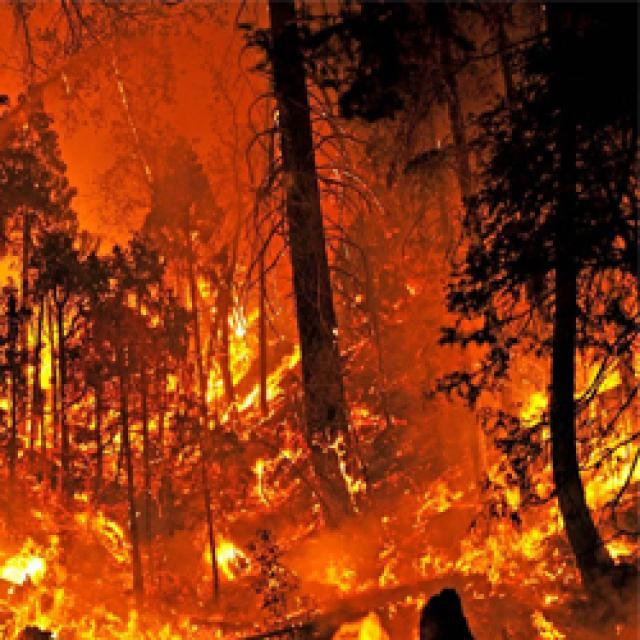Fire: (153, 252, 329, 456), (0, 522, 242, 634), (515, 354, 640, 552), (0, 245, 120, 389), (0, 385, 208, 453), (444, 495, 576, 596), (318, 536, 441, 604), (310, 437, 388, 498), (236, 456, 296, 516), (198, 532, 252, 574)
